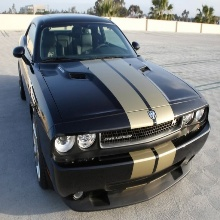no damage: (14, 13, 212, 212)
